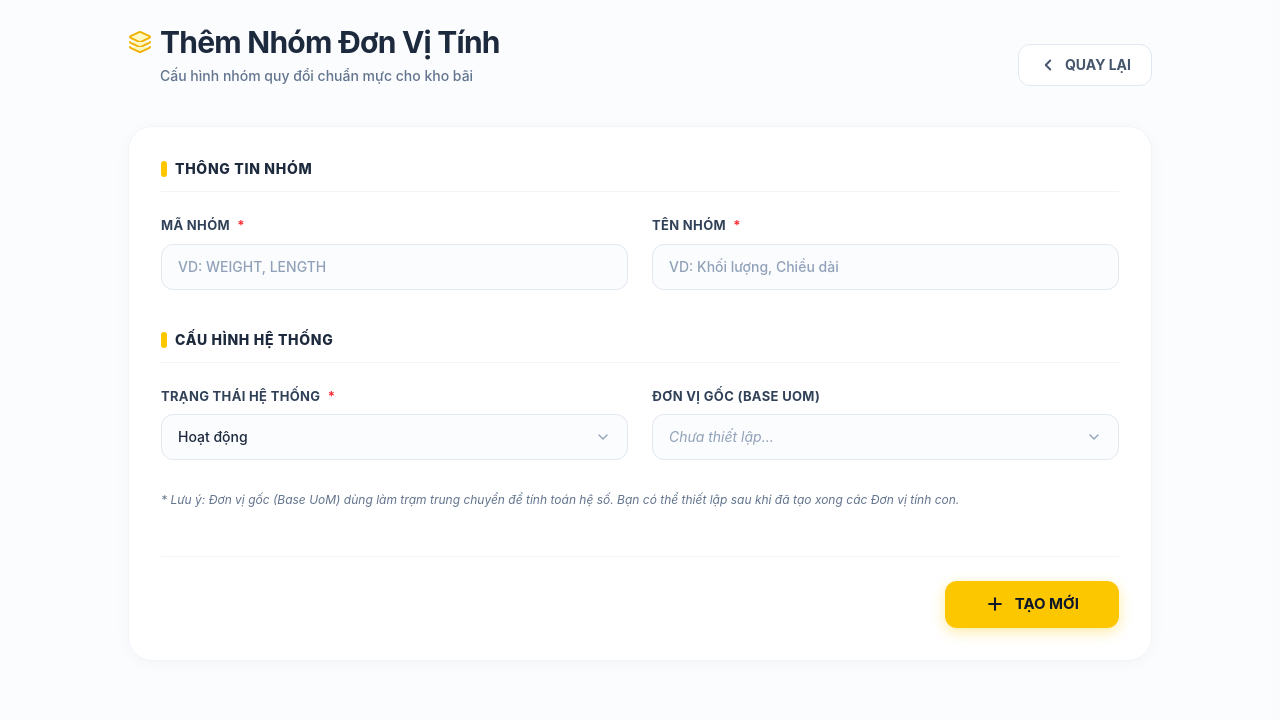
Module 02 - UoMCategoryForm Component › TC02 - Báo lỗi validation khi bỏ trống Mã và Tên nhóm
This screenshot has width=1280, height=720.
What coordinates should you click on to do the following:
click the button "TẠO MỚI"
I would click on:
 (1032, 604)
Its box is [945, 581, 1119, 628].
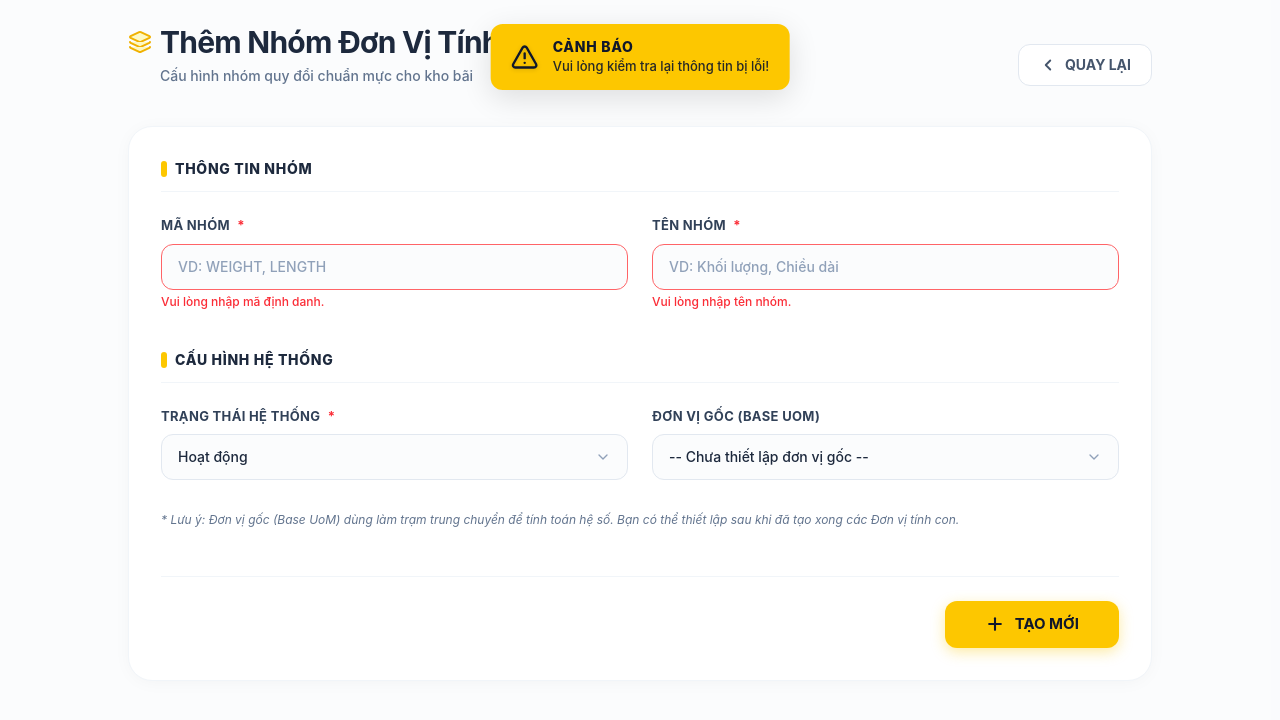
Expected: the text "Vui lòng nhập mã định danh." is shown, [161, 294, 324, 308]
Expected: the text "Vui lòng nhập tên nhóm." is shown, [652, 294, 791, 308]
